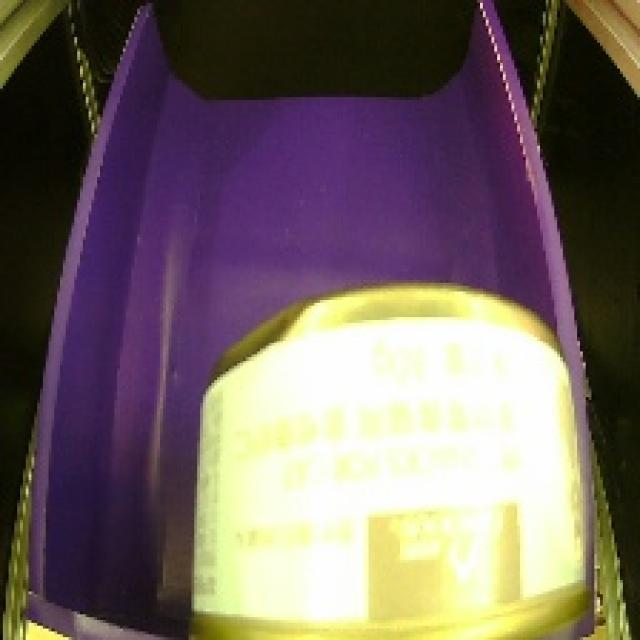metal: (166, 275, 610, 640)
